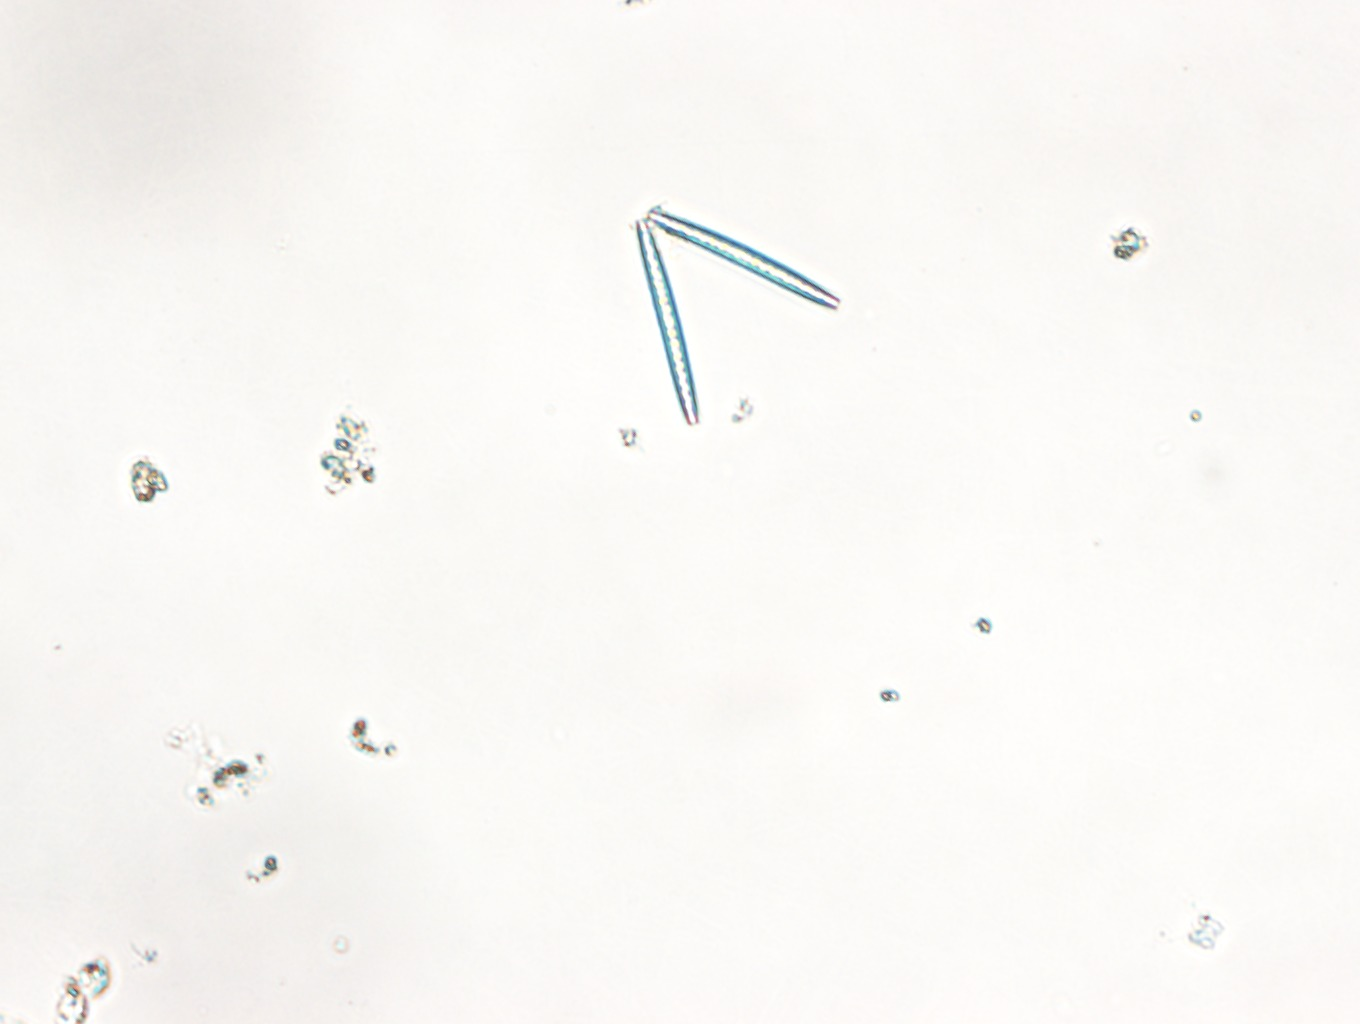thalassionema nitzschioides: (632, 202, 846, 430)
